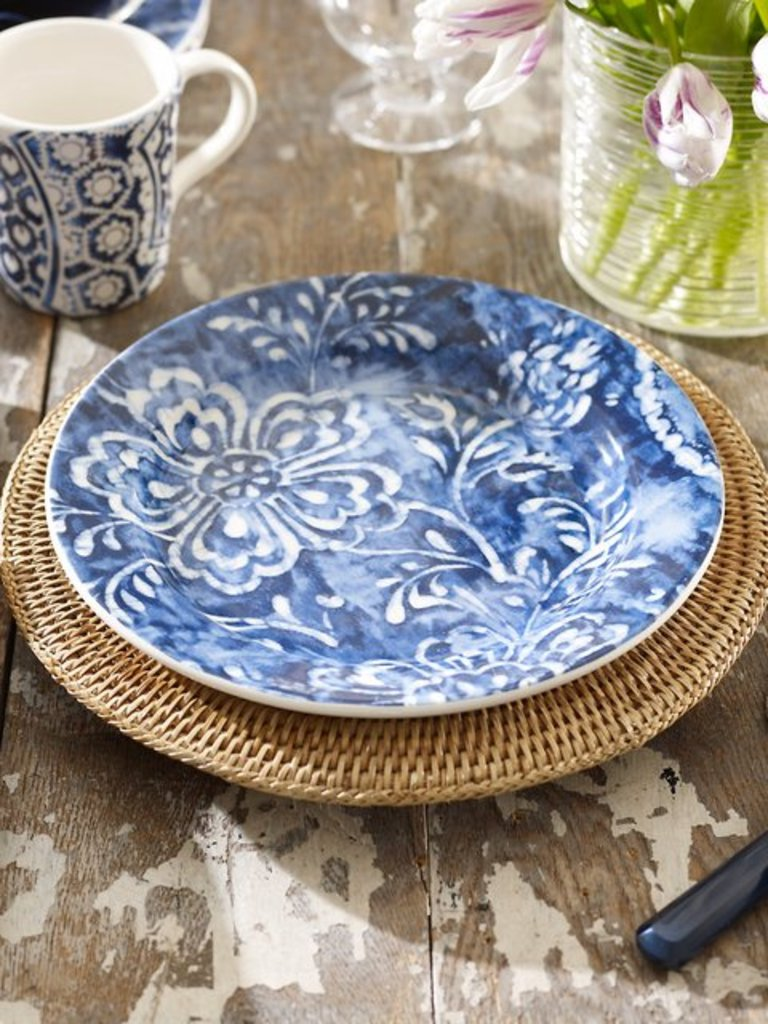plate: (42, 264, 729, 724)
